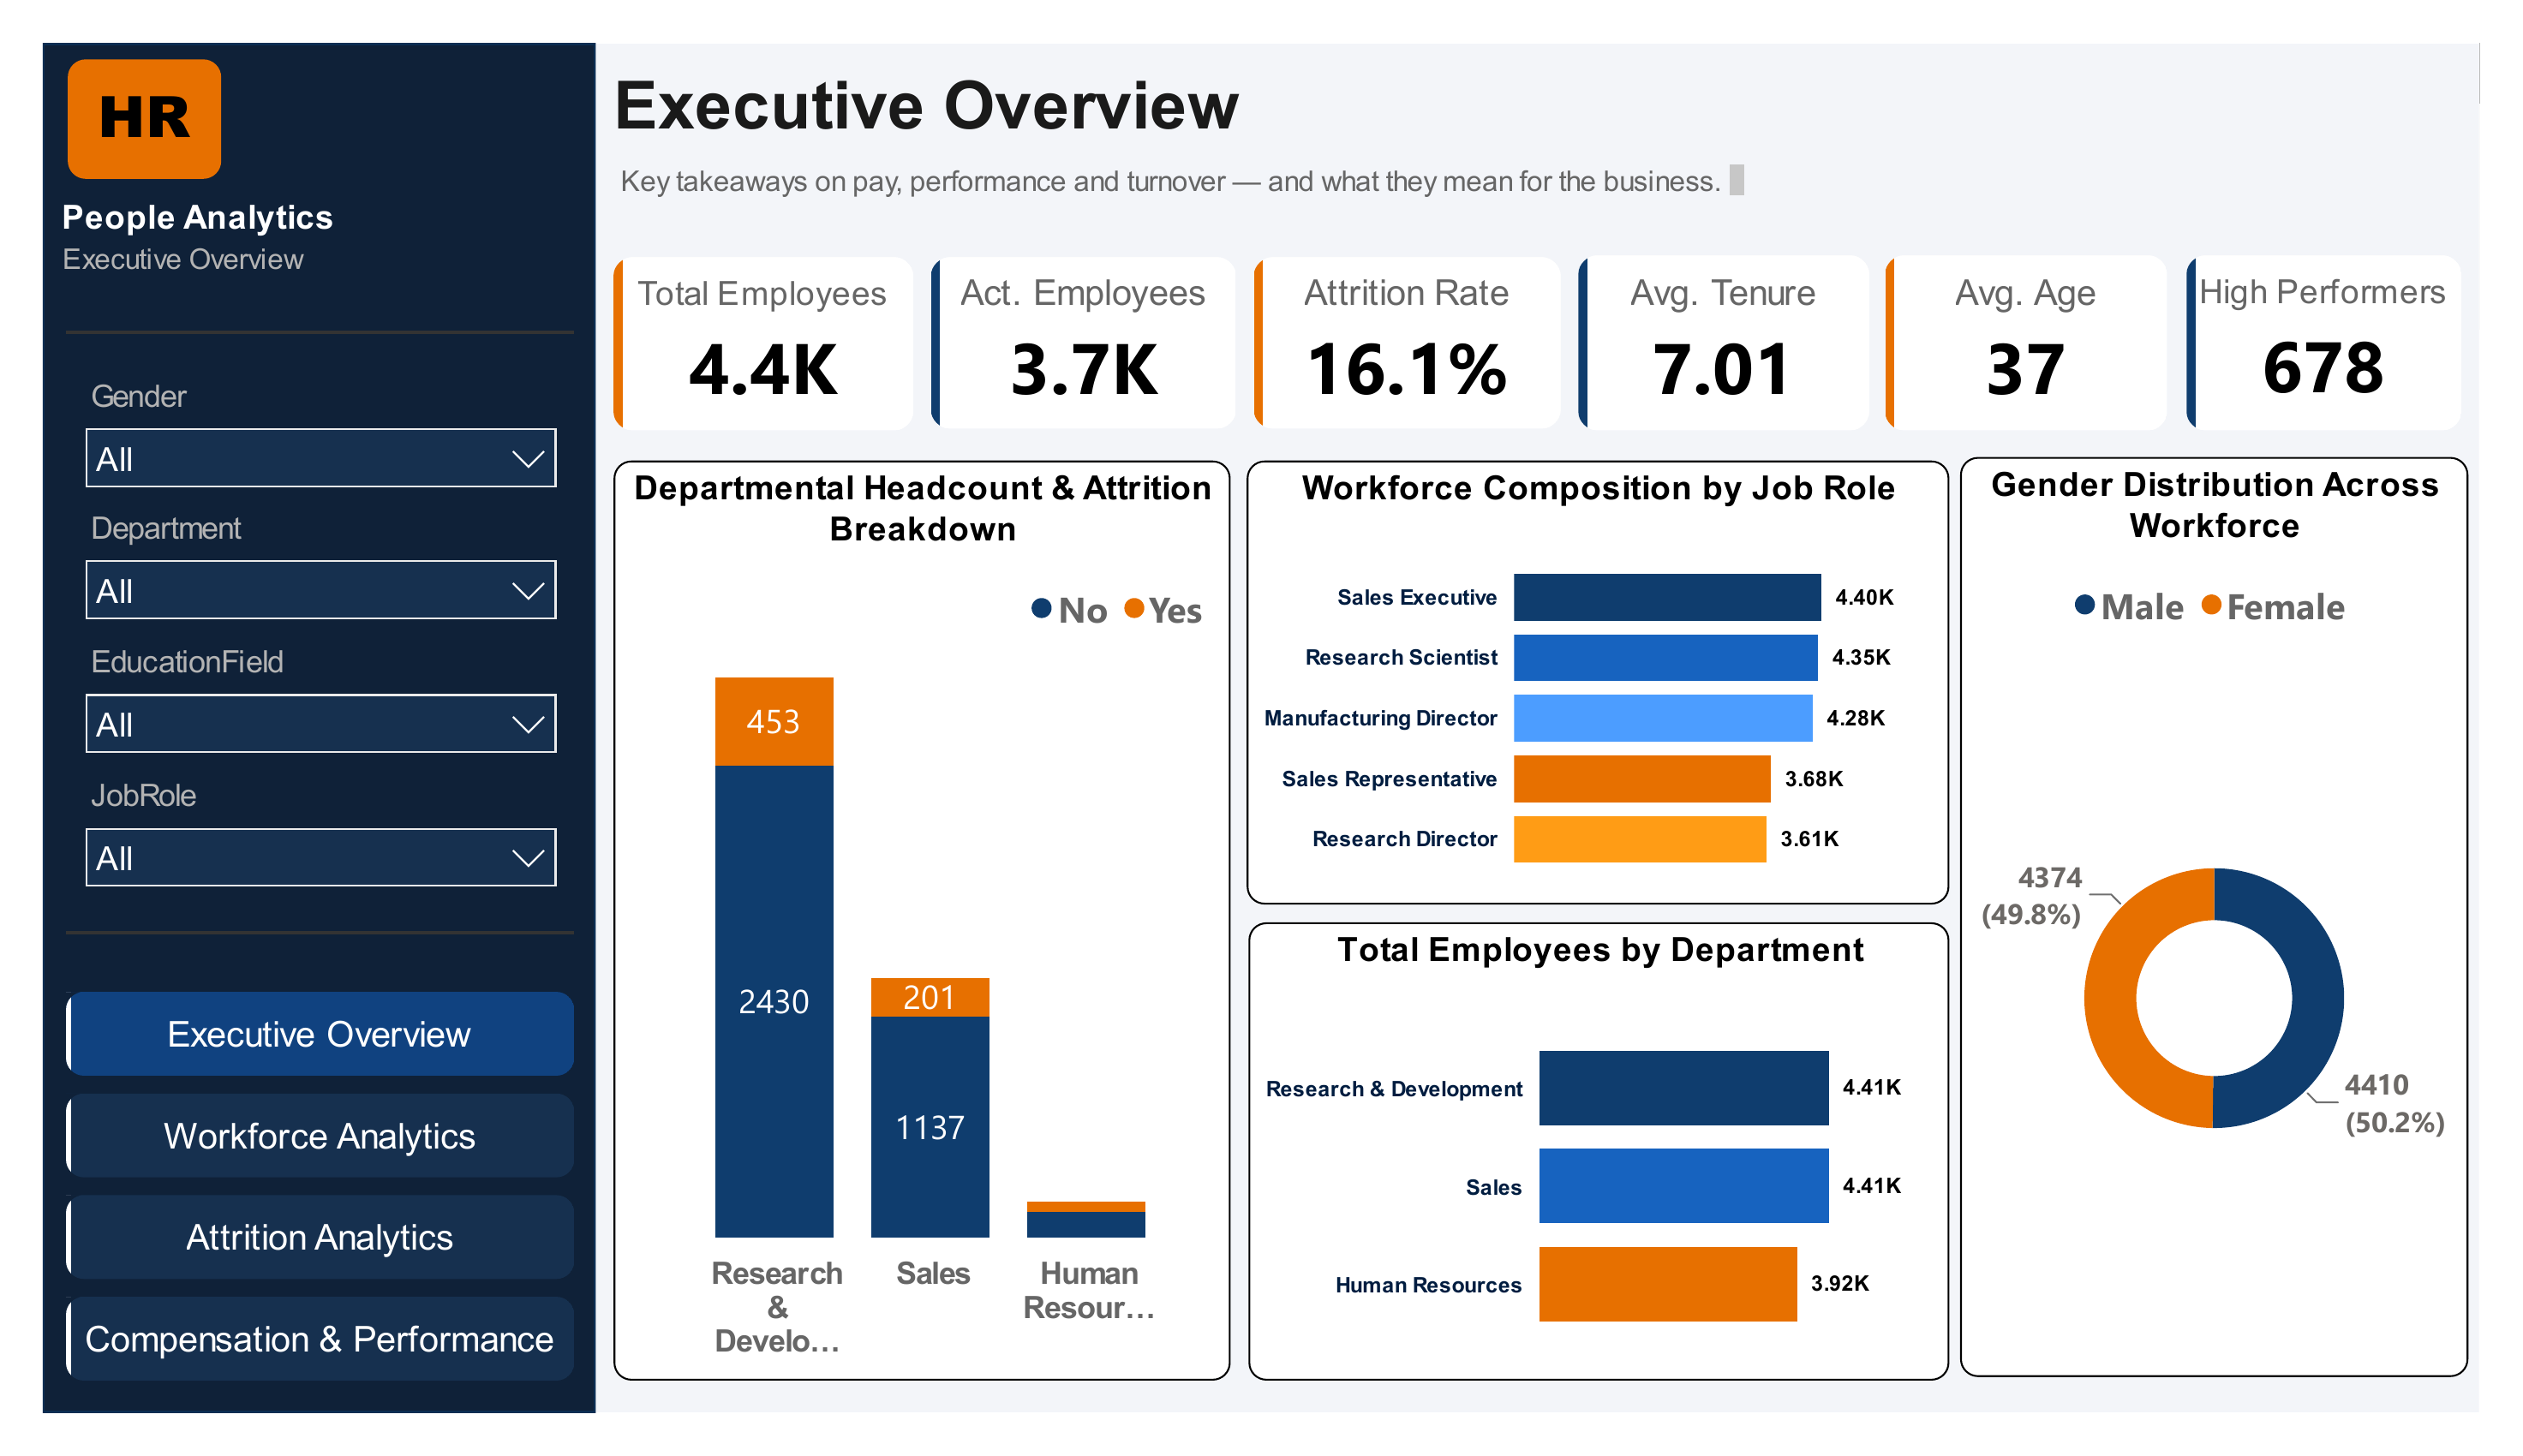

What the dashboard file says about the page in this screenshot:
{"tool":"powerbi","page":{"name":"Executive Overview","canvas":[1366,768],"ordinal":0},"visuals":[{"type":"cardVisual","title":"Total Employees","fields":{"Data":["Measuress.Total Employees"]},"box":[315.4,114.6,177.7,106.9],"z":0},{"type":"clusteredBarChart","fields":{"Category":["Employee Data.Department"],"Y":["Measuress.Total Employees"]},"box":[675.7,492.5,393.6,257.6],"z":0,"group":"g2"},{"type":"shape","box":[0,0,310,768.3],"z":1000},{"type":"donutChart","title":"Gender Distribution Across Workforce","fields":{"Category":["Employee Data.Gender"],"Y":["Measuress.Total Employees"]},"box":[1074.9,231.7,285.1,516.4],"z":1000,"group":"g2"},{"type":"clusteredBarChart","title":"Workforce Composition by Job Role","fields":{"Category":["Employee Data.JobRole"],"Y":["Measuress.Total Employees"]},"box":[674.6,233.7,394.6,249],"z":2000,"group":"g2"},{"type":"pageNavigator","box":[13.3,531.7,285,218.3],"z":2000},{"type":"cardVisual","title":"Avearage Tenure","fields":{"Data":["Measuress.Average Tenure"]},"box":[855.8,114.2,173.3,107.5],"z":3000},{"type":"columnChart","title":"Departmental Headcount & Attrition Breakdown","fields":{"Category":["EmployeeData.Department"],"Y":["Measuress.Total Employees"],"Series":["EmployeeData.Attrition"]},"box":[320,233.7,346,516.4],"z":3000,"group":"g2"},{"type":"group","id":"g1","title":"Group 2","box":[13.6,184.4,284.2,302.4],"z":4000},{"type":"cardVisual","title":"Active Employees","fields":{"Data":["Measuress.Active Employees"]},"box":[492.9,114.9,181.4,105.8],"z":5000},{"type":"slicer","fields":{"Values":["EmployeeData.Department"]},"box":[13.6,258.1,284.5,72.3],"z":5000,"group":"g1"},{"type":"cardVisual","title":"Attrition Rate","fields":{"Data":["Measuress.Attrition Rate"]},"box":[674.3,114.9,181.4,105.8],"z":6000},{"type":"textbox","box":[13.6,9.1,86.2,66.5],"z":7000},{"type":"slicer","fields":{"Values":["EmployeeData.Gender"]},"box":[13.6,184.4,284.5,73.7],"z":7000,"group":"g1"},{"type":"cardVisual","title":"Average Age","fields":{"Data":["Measuress.Average Age"]},"box":[1028.3,114.2,167.5,107.5],"z":8000},{"type":"textbox","box":[6,81,177.3,33.3],"z":9000},{"type":"slicer","fields":{"Values":["EmployeeData.JobRole"]},"box":[13.6,408.3,284.5,78],"z":9000,"group":"g1"},{"type":"shape","box":[13.3,150,284.4,24.4],"z":10000},{"type":"cardVisual","title":"High Performers","fields":{"Data":["Measuress.High Performers"]},"box":[1196.7,114.2,164.2,107.5],"z":11000},{"type":"slicer","fields":{"Values":["EmployeeData.EducationField"]},"box":[13.6,333.2,284.5,75.1],"z":11000,"group":"g1"},{"type":"textbox","box":[5.8,107.4,190.8,30],"z":12000},{"type":"shape","box":[13.3,486.7,284.4,24.4],"z":13000},{"type":"textbox","box":[315,8.3,573.3,55],"z":14000},{"type":"textbox","box":[318.8,62.5,640,28.8],"z":15000},{"type":"group","id":"g2","title":"Group 3","box":[320,231.7,1040,518.3],"z":16000}]}

Visuals, with their boxes on the page's 1366x768 design canvas (x1, y1, x2, y2). These are canvas units, not pixel positions in the 2523x1456 screenshot, which may show the page scaled, cropped or inside an application window:
"Total Employees" cardVisual: (315,115,493,222)
clusteredBarChart - Employee Data.Department x Measuress.Total Employees: (676,492,1069,750)
shape: (0,0,310,768)
"Gender Distribution Across Workforce" donutChart: (1075,232,1360,748)
"Workforce Composition by Job Role" clusteredBarChart: (675,234,1069,483)
pageNavigator: (13,532,298,750)
"Avearage Tenure" cardVisual: (856,114,1029,222)
"Departmental Headcount & Attrition Breakdown" columnChart: (320,234,666,750)
"Group 2" group: (14,184,298,487)
"Active Employees" cardVisual: (493,115,674,221)
slicer - EmployeeData.Department: (14,258,298,330)
"Attrition Rate" cardVisual: (674,115,856,221)
textbox: (14,9,100,76)
slicer - EmployeeData.Gender: (14,184,298,258)
"Average Age" cardVisual: (1028,114,1196,222)
textbox: (6,81,183,114)
slicer - EmployeeData.JobRole: (14,408,298,486)
shape: (13,150,298,174)
"High Performers" cardVisual: (1197,114,1361,222)
slicer - EmployeeData.EducationField: (14,333,298,408)
textbox: (6,107,197,137)
shape: (13,487,298,511)
textbox: (315,8,888,63)
textbox: (319,62,959,91)
"Group 3" group: (320,232,1360,750)
